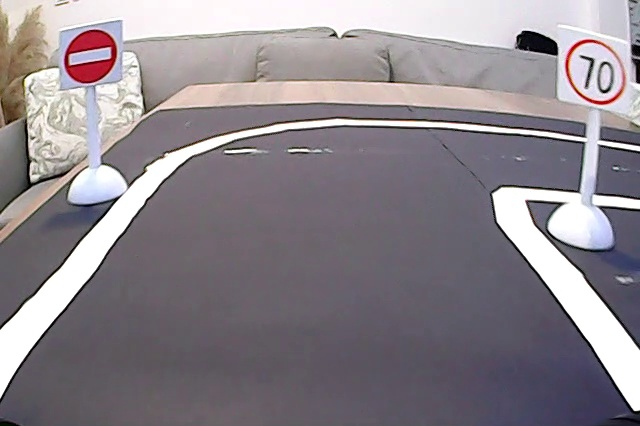do not enter: (58, 24, 123, 90)
speed limit 70: (557, 25, 630, 113)
